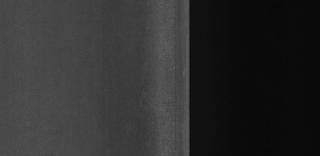silk spot: (129, 71, 163, 113)
